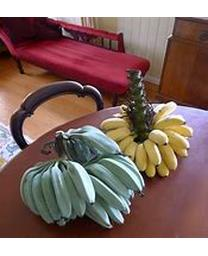banana: (19, 125, 144, 230), (100, 94, 195, 181)
